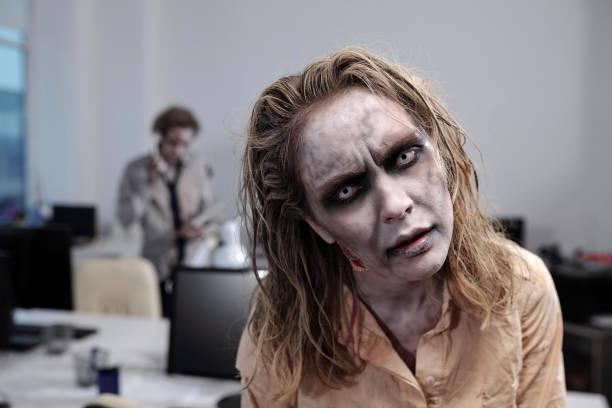Zombie: (265, 78, 493, 285)
